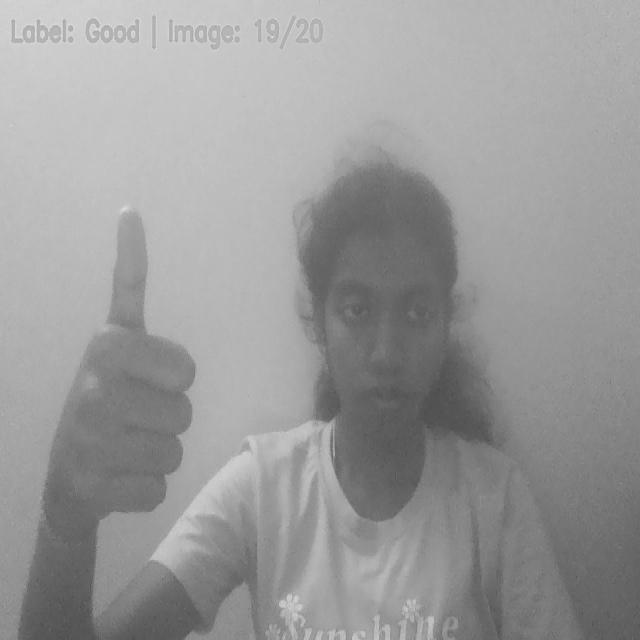Good: (43, 202, 202, 522)
